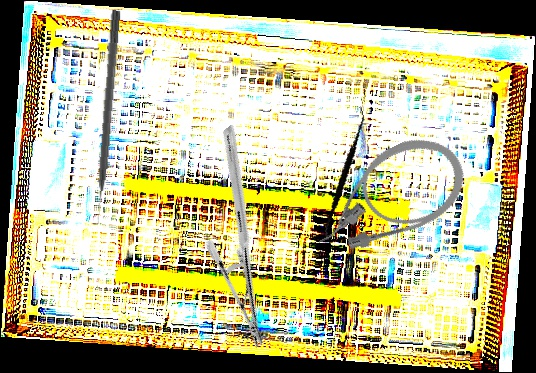Cannula: (295, 123, 479, 269)
Needle Holder: (138, 124, 349, 349)
Pusher: (90, 9, 122, 225)
Spatula Surgical: (294, 106, 393, 241)
